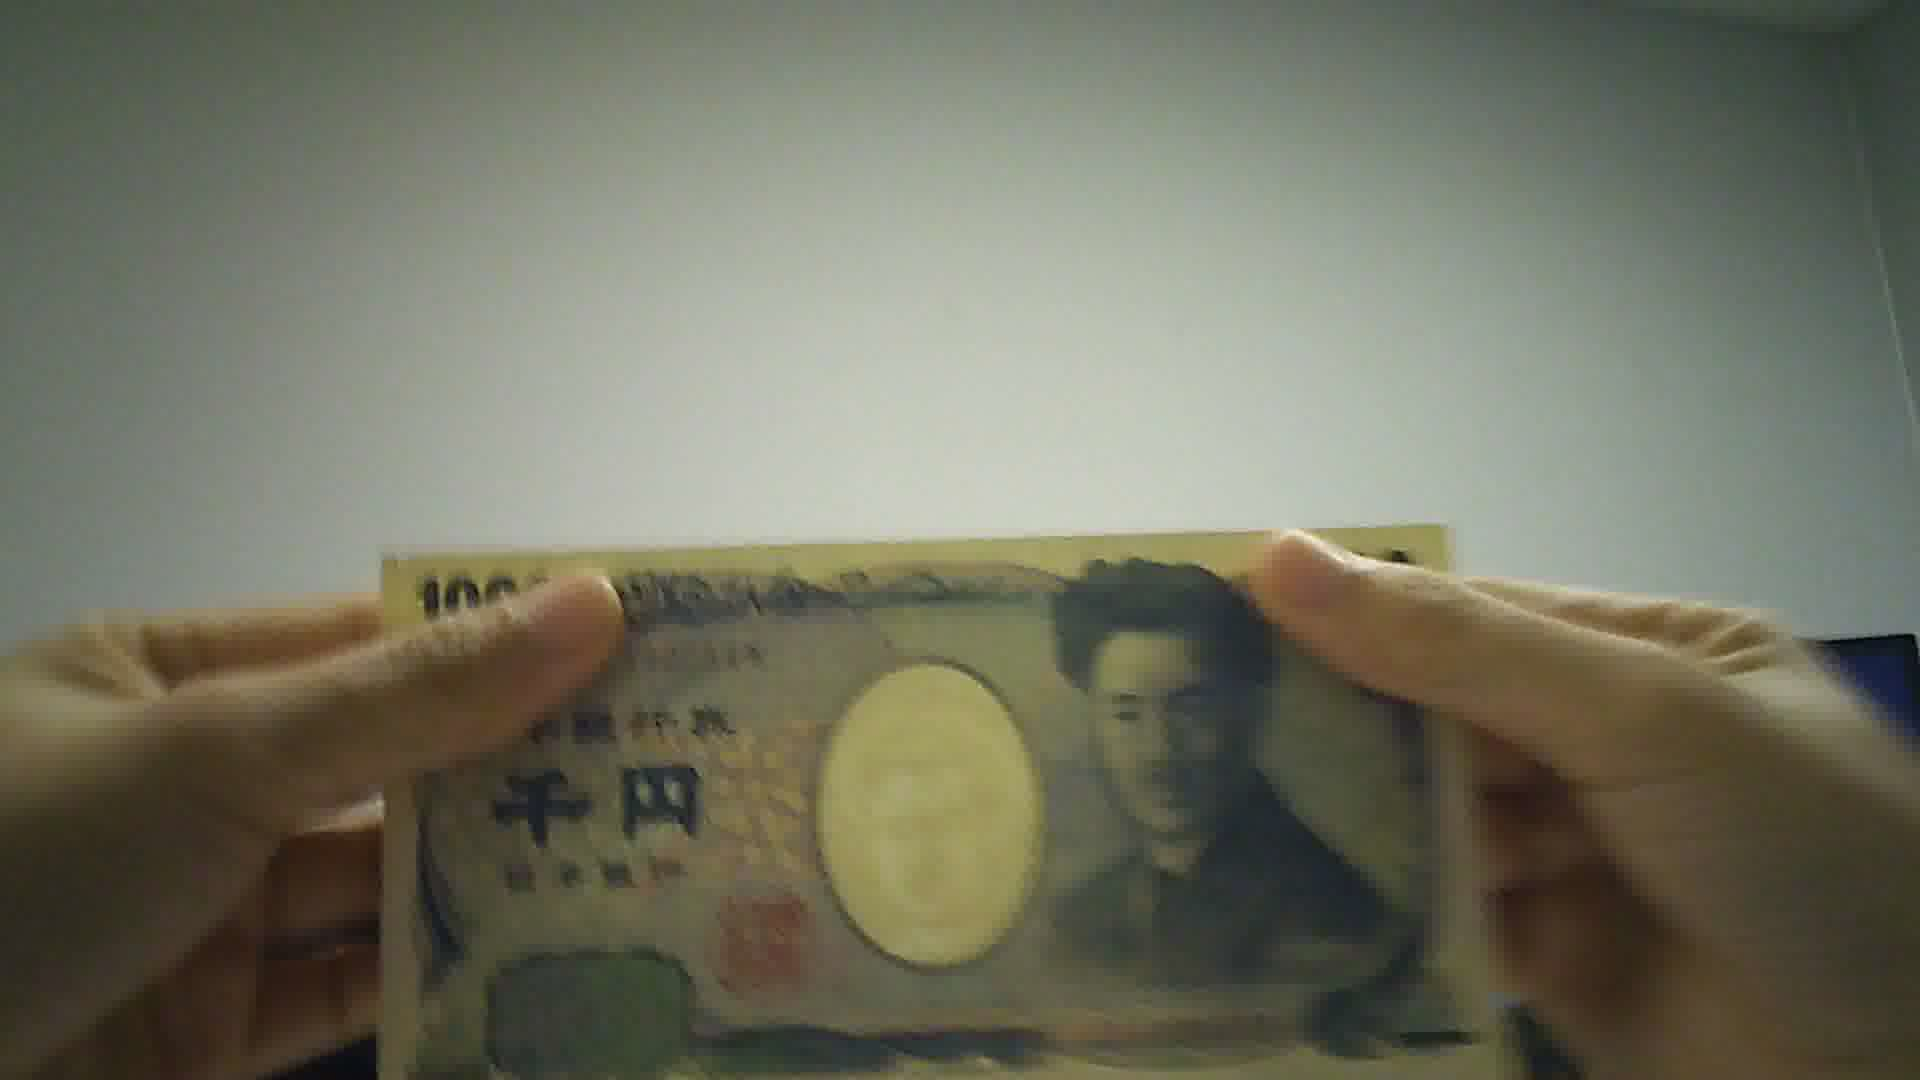1,000 Yen: (382, 538, 1518, 1079)
